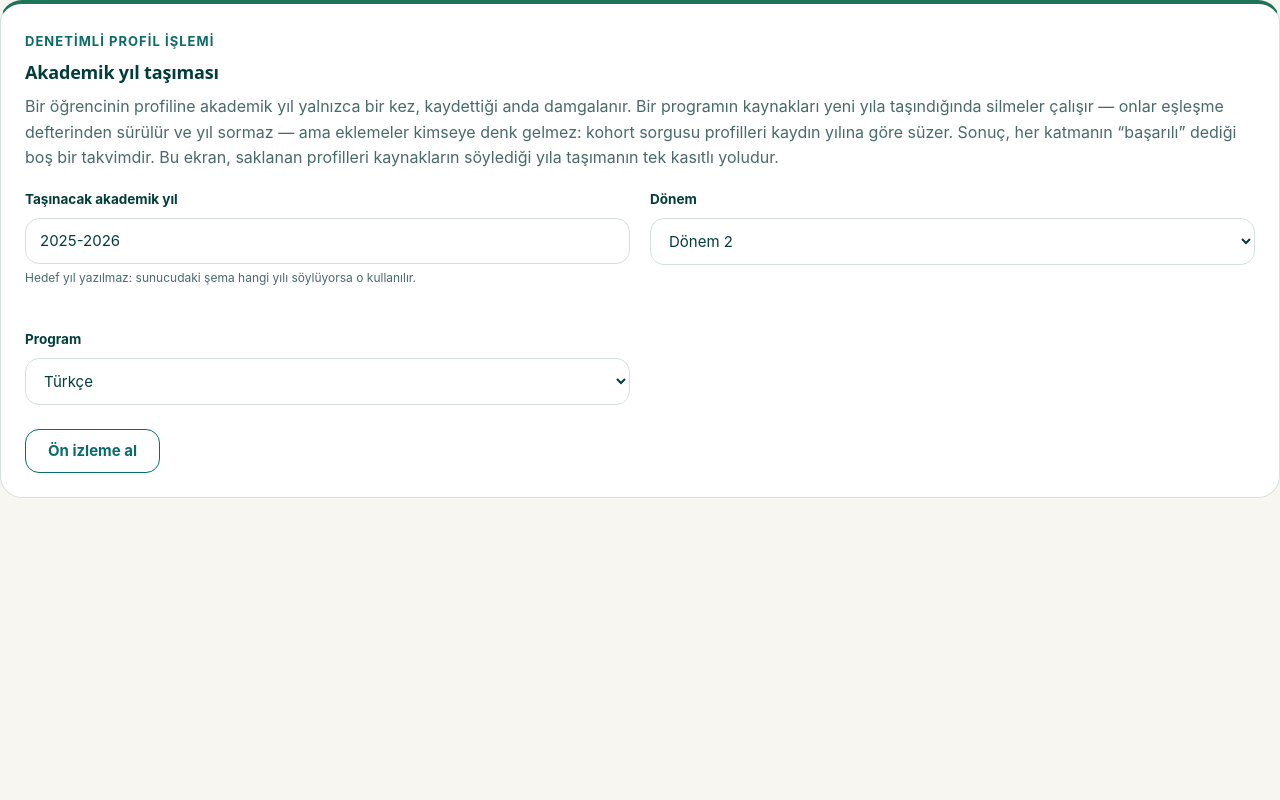
Test: ProfileRolloverControl › requires a reason before the move can be confirmed
Click the button "Ön izleme al": (93, 451) [25,429,160,473]
(page scrolled)
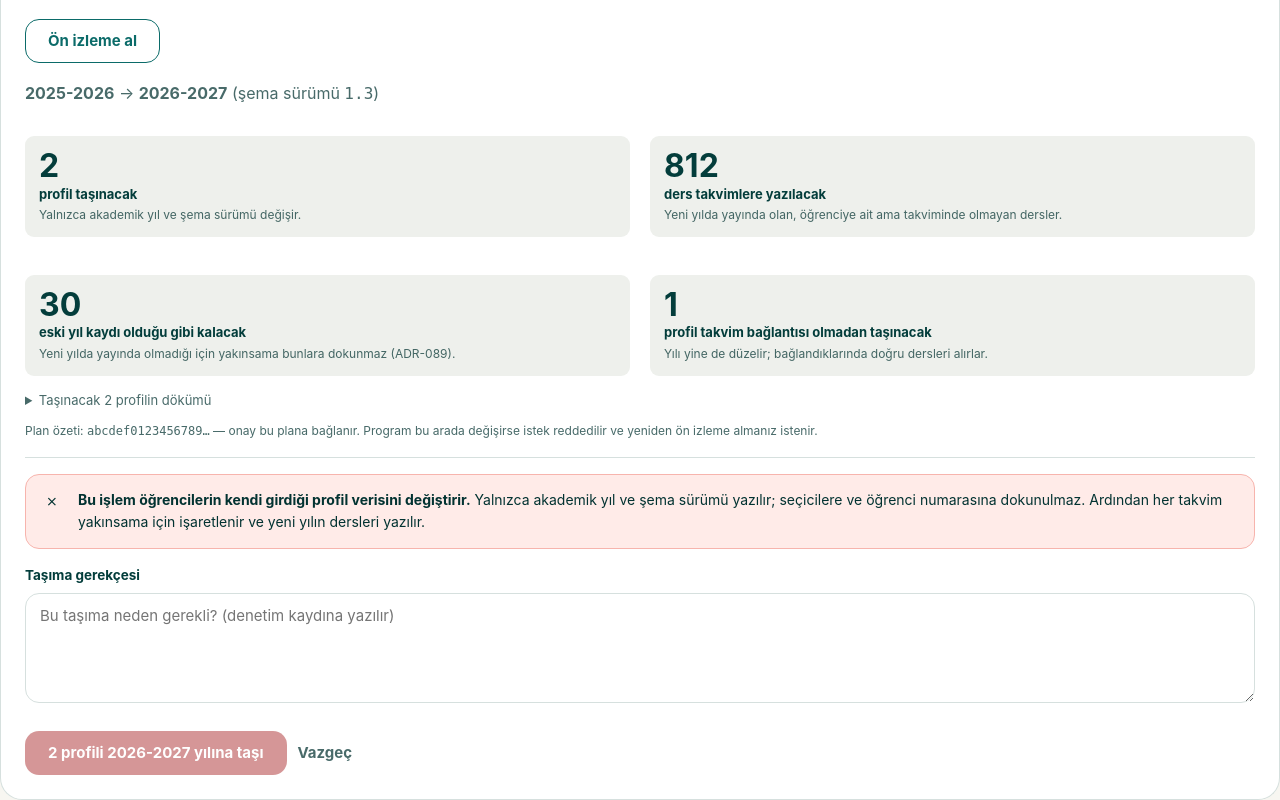
expect the button "2 profili 2026-2027 yılına taşı" is disabled: met, box [25,731,286,775]
In the text box labelled "Taşıma gerekçesi": (640, 648) [25,593,1255,703], type "Kaynaklar 26-27 dosyalarına taşındı."
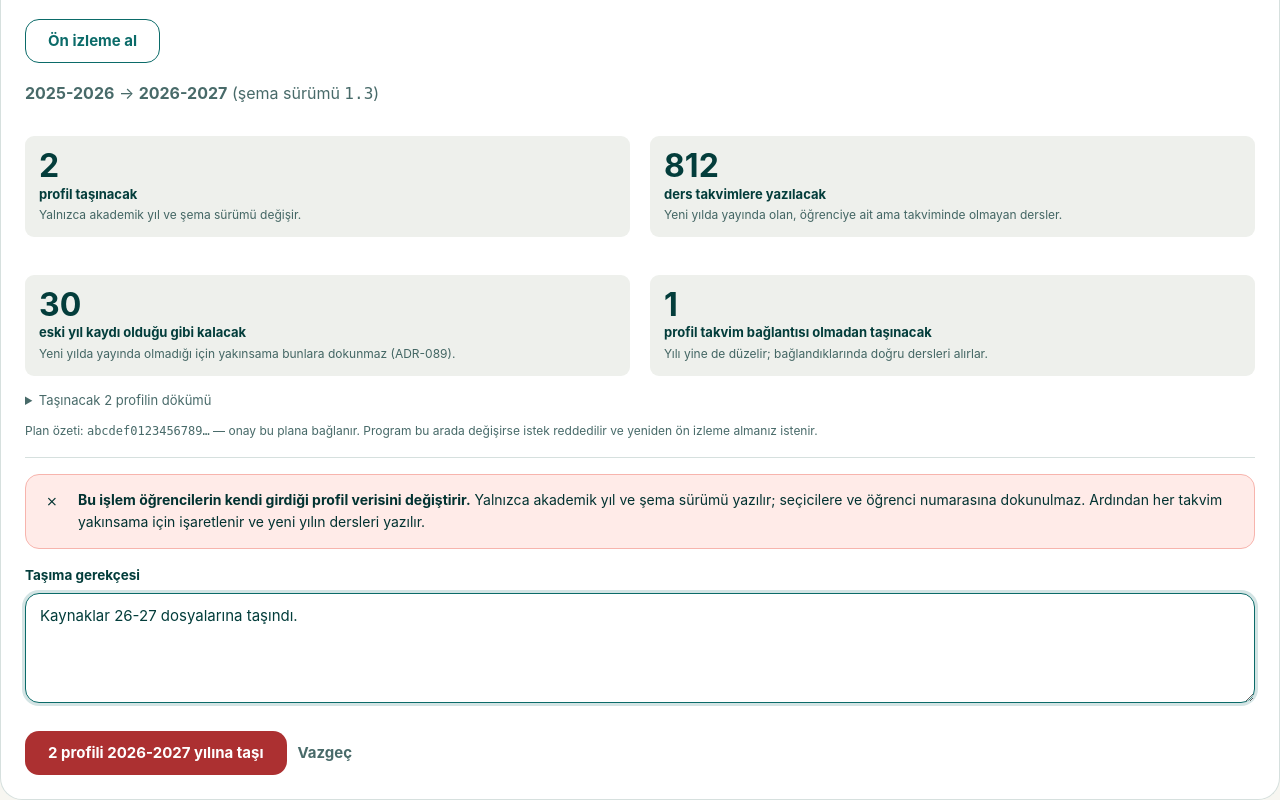
expect the button "2 profili 2026-2027 yılına taşı" is enabled: met, box [25,731,286,775]
